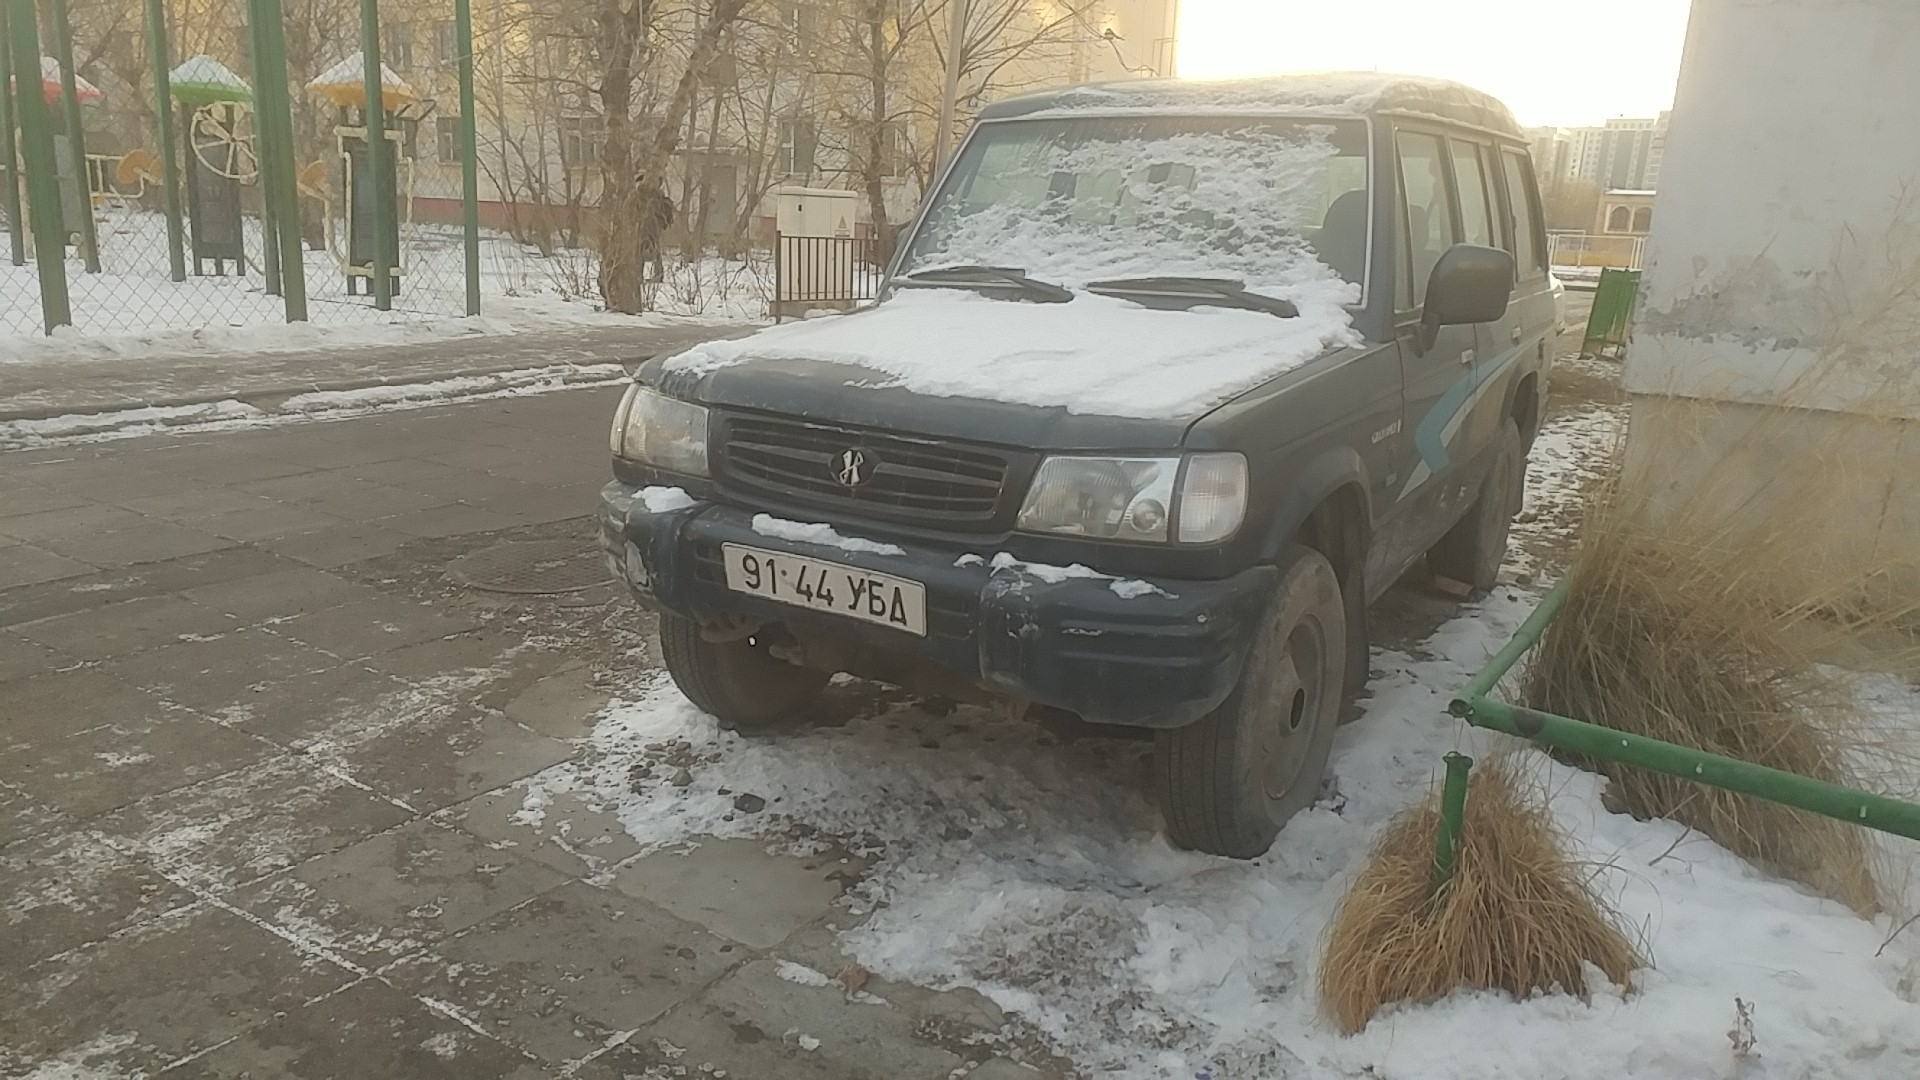1: (765, 557, 781, 595)
4: (793, 563, 815, 603), (815, 567, 835, 608)
9: (741, 554, 763, 590)
b: (866, 577, 888, 616)
d: (886, 584, 910, 625)
plate: (718, 540, 932, 638)
u: (845, 573, 865, 612)
